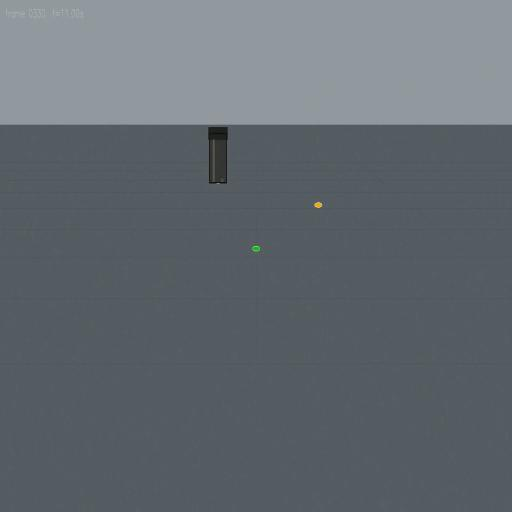bin: (208, 126, 228, 184)
